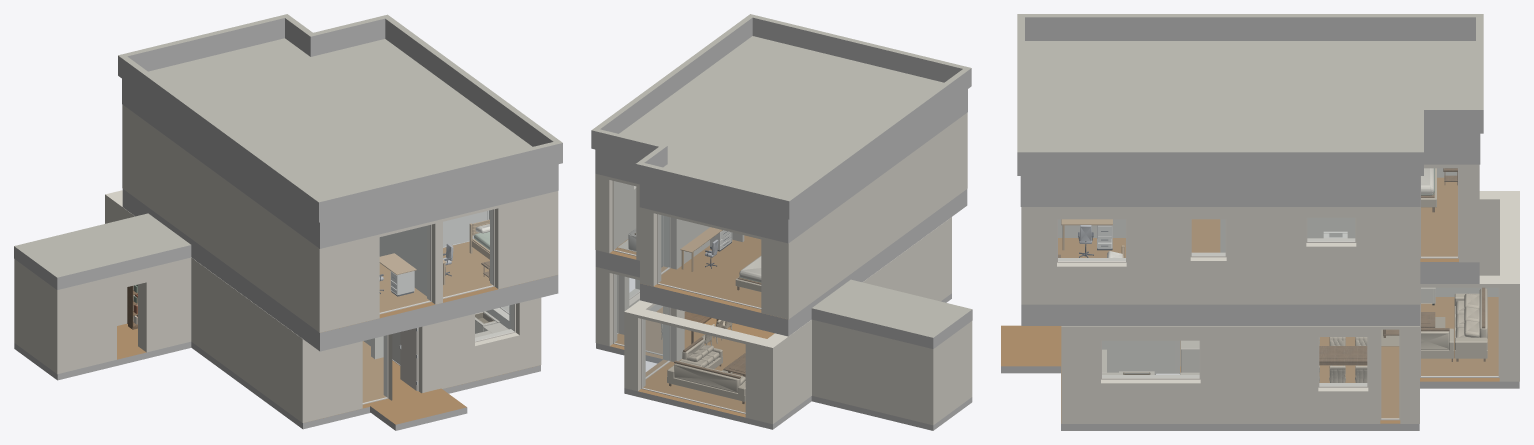
3 views of the same model, side by side, from view 1: azimuth 30°, elevation 25°; view 2: azimuth 150°, elevation 25°; view 3: azimuth 270°, elevation 25° (orthographic). The views are drawn at different scales.
Parts seen in each view (by area): view 1: slab_igor_box_0, wall_igor_upper_east, wall_igor_upper_front, wall_igor_ground_east, wall_igor_ground_store-front, slab_igor_box_17, wall_igor_ground_entrance, slab_igor_box_10, slab_igor_box_15, wall_igor_ground_kitchen-front, slab_igor_box_11, slab_igor_box_18 (+21 smaller); view 2: slab_igor_box_0, wall_igor_upper_east, wall_igor_ground_store-rear, window_igor_ground_living-rear_0, window_igor_upper_primary-rear_0, wall_igor_ground_east, slab_igor_box_17, slab_igor_box_19, wall_igor_ground_living-rear, slab_igor_box_1, slab_igor_box_10, slab_igor_box_15 (+28 smaller); view 3: slab_igor_box_0, wall_igor_upper_west, wall_igor_ground_kitchen-west, slab_igor_box_15, slab_igor_box_11, window_igor_ground_living-west_0, slab_igor_box_3, slab_igor_box_1, slab_igor_box_7, slab_igor_box_18, window_igor_ground_kitchen-west_2, window_igor_upper_primary-west_0 (+22 smaller).
Boxes of the visible parts, x1,y1,x2,y2 form: slab_igor_box_0: (148, 39, 558, 248); wall_igor_upper_east: (122, 104, 319, 332); wall_igor_upper_front: (319, 191, 558, 332); wall_igor_ground_east: (105, 194, 302, 422); wall_igor_ground_store-front: (57, 257, 191, 374); slab_igor_box_17: (14, 213, 191, 289); wall_igor_ground_entrance: (302, 317, 459, 422); slab_igor_box_10: (315, 141, 562, 222); slab_igor_box_15: (118, 56, 324, 219); wall_igor_ground_kitchen-front: (459, 297, 541, 384); slab_igor_box_11: (382, 14, 562, 164); slab_igor_box_18: (379, 241, 558, 320); slab_igor_box_0: (595, 36, 967, 225); wall_igor_upper_east: (788, 112, 967, 318); wall_igor_ground_store-rear: (812, 319, 933, 425); window_igor_ground_living-rear_0: (641, 319, 745, 414); window_igor_upper_primary-rear_0: (657, 214, 761, 309); wall_igor_ground_east: (767, 217, 951, 423); slab_igor_box_17: (811, 279, 972, 348); slab_igor_box_19: (640, 240, 856, 325); wall_igor_ground_living-rear: (624, 309, 772, 424); slab_igor_box_1: (639, 165, 811, 243); slab_igor_box_10: (747, 14, 971, 87); slab_igor_box_15: (786, 67, 970, 216); slab_igor_box_0: (1020, 41, 1420, 206); wall_igor_upper_west: (1021, 207, 1420, 304); wall_igor_ground_kitchen-west: (1061, 326, 1419, 423); slab_igor_box_15: (1017, 14, 1483, 40); slab_igor_box_11: (1017, 149, 1423, 175); window_igor_ground_living-west_0: (1420, 287, 1499, 377); slab_igor_box_3: (1021, 311, 1419, 325); slab_igor_box_1: (1420, 41, 1480, 164); slab_igor_box_7: (1061, 297, 1519, 388); slab_igor_box_18: (1021, 219, 1419, 311); window_igor_ground_kitchen-west_2: (1101, 340, 1200, 379); window_igor_upper_primary-west_0: (1420, 168, 1458, 258).
Bounding box in the file's own units: 12.61 × 7.75 × 13.
Materials: 36 (1 with a texture image).
